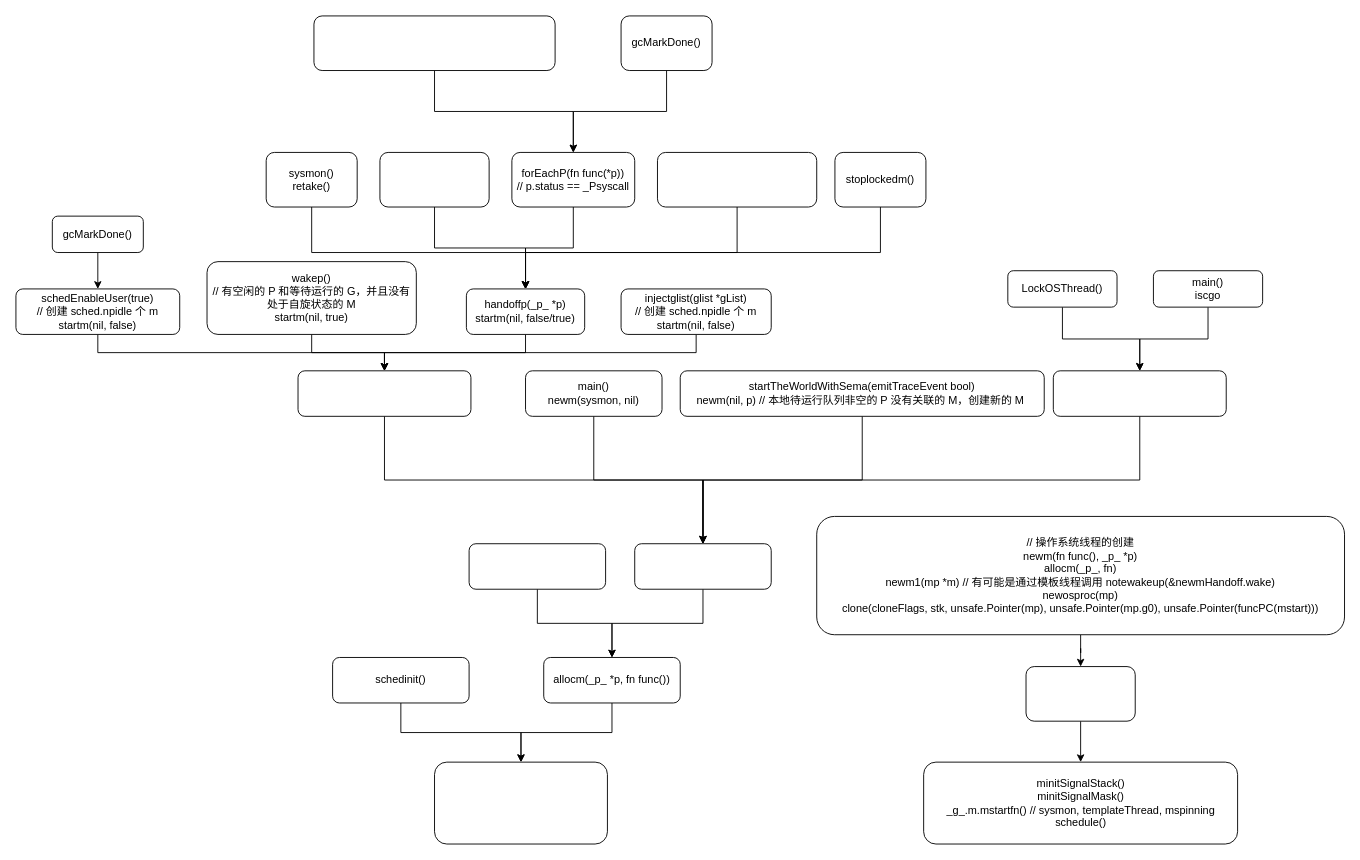
Image size: 1360x860. Some labels were removed from this diagram. The centre of each missing label's shape, as x and y in pixels:
"cgocallbackg1(ctxt uintptr) newextram() oneNewExtraM()" goes at (537,566).
"entersyscallblock() entersyscallblock_handoff()" goes at (737,179).
"gcMarkTermination(nextTriggerRatio float64)" goes at (434,43).
"mcommoninit(mp *m) checkmcount() // 检查 M 的数量是否超过 sched.maxmcount 10000" goes at (520,802).
"mexit(osStack bool)" goes at (434,179).
"mstart() mstart1()" goes at (1080,693).
"newm(fn func(), _p_ *p) // 创建操作系统线程" goes at (702,566).
"startm(_p_ *p, spinning bool) // 如果 shced.midle 没有空闲的 M" goes at (384,393).
"startTemplateThread() newm(templateThread, nil)" goes at (1139,393).
